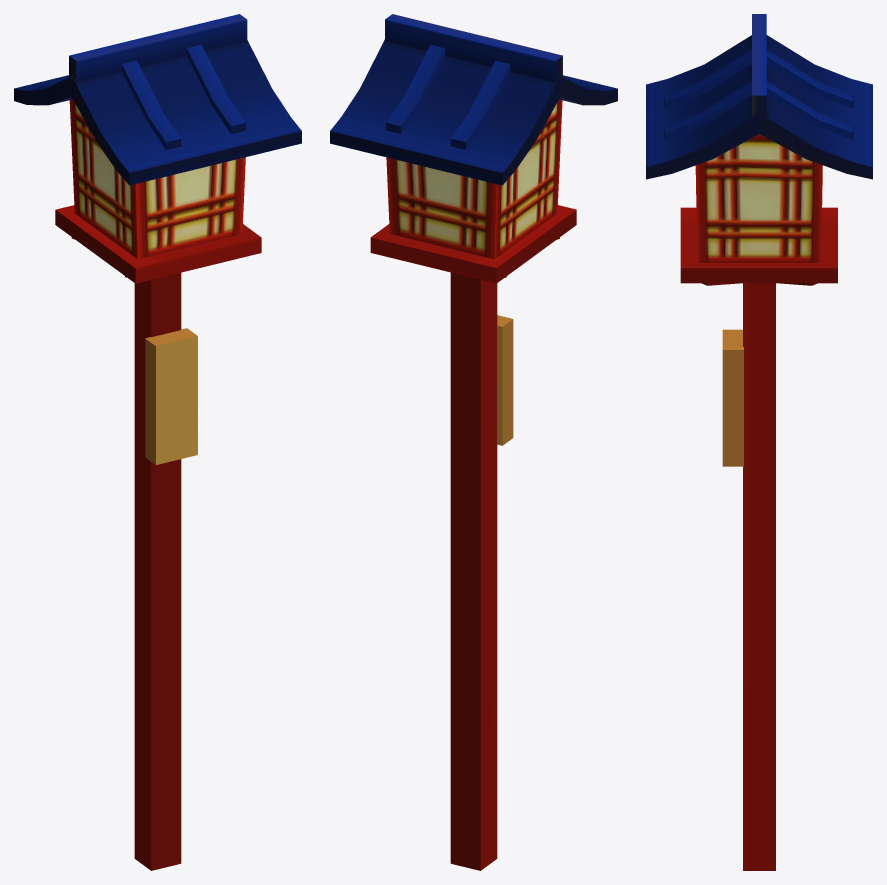
Rendered from light.FBX.
3 views of the same model, side by side, from view 1: azimuth 30°, elevation 25°; view 2: azimuth 150°, elevation 25°; view 3: azimuth 270°, elevation 25° (orthographic).
Parts seen in each view (by area): view 1: light; view 2: light; view 3: light.
Part boxes in pixels (x1,y1,x2,y2): light: [14, 14, 301, 870]; light: [330, 14, 617, 870]; light: [646, 14, 872, 870].
Bounding box in the file's own units: 15169 × 69219 × 17583.
